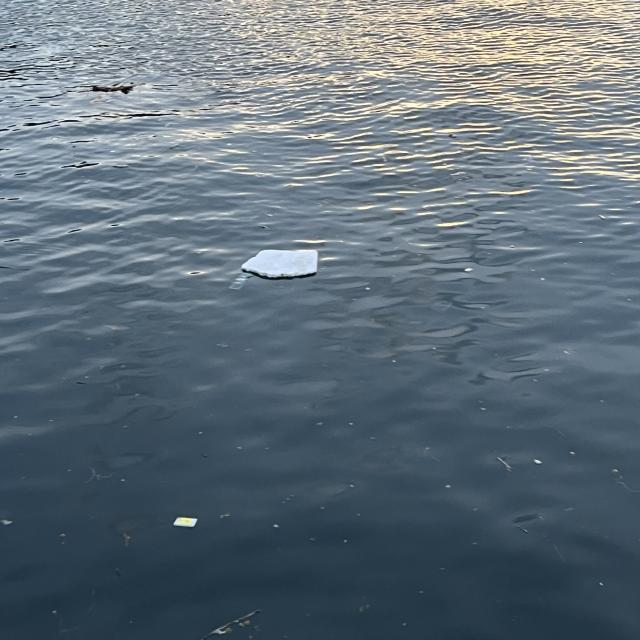foam: (241, 248, 319, 278)
plastic bottle: (228, 273, 252, 290), (174, 518, 197, 526)
